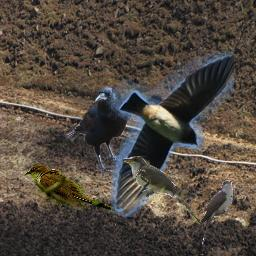Crow: (61, 82, 131, 178)
Cuckoo: (122, 156, 202, 224), (24, 163, 120, 213), (199, 180, 233, 246)
Swallow: (111, 51, 234, 217)
